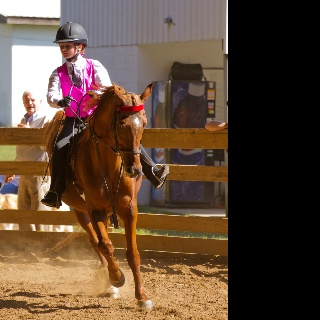without_mask: (23, 92, 41, 113), (59, 43, 78, 58)
